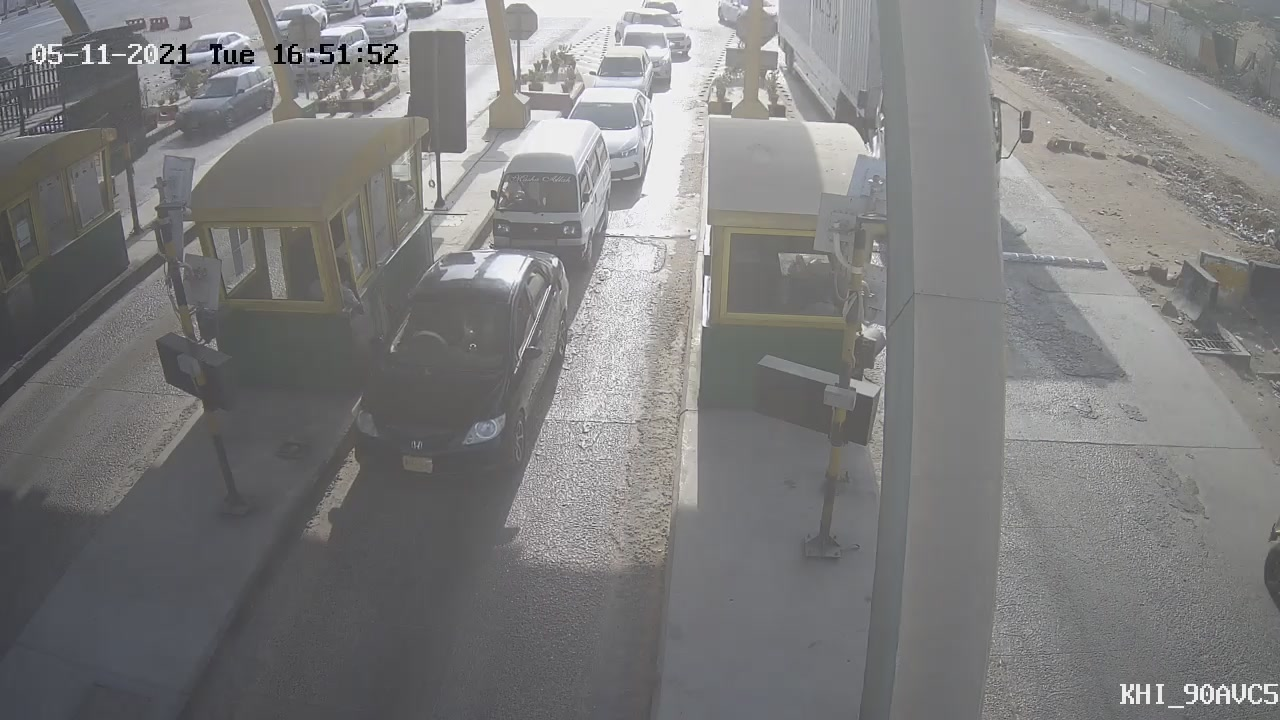F1: (329, 230, 599, 511), (473, 99, 626, 287)
